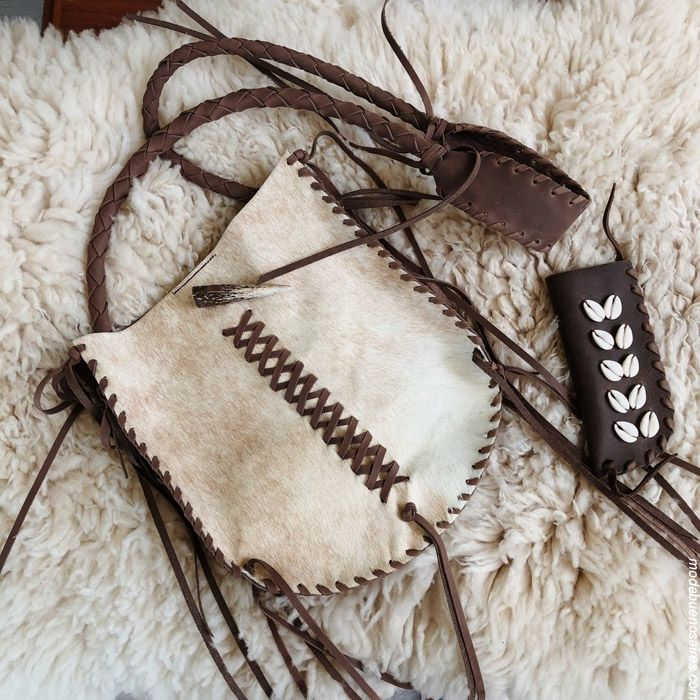cuero: (442, 120, 675, 476)
